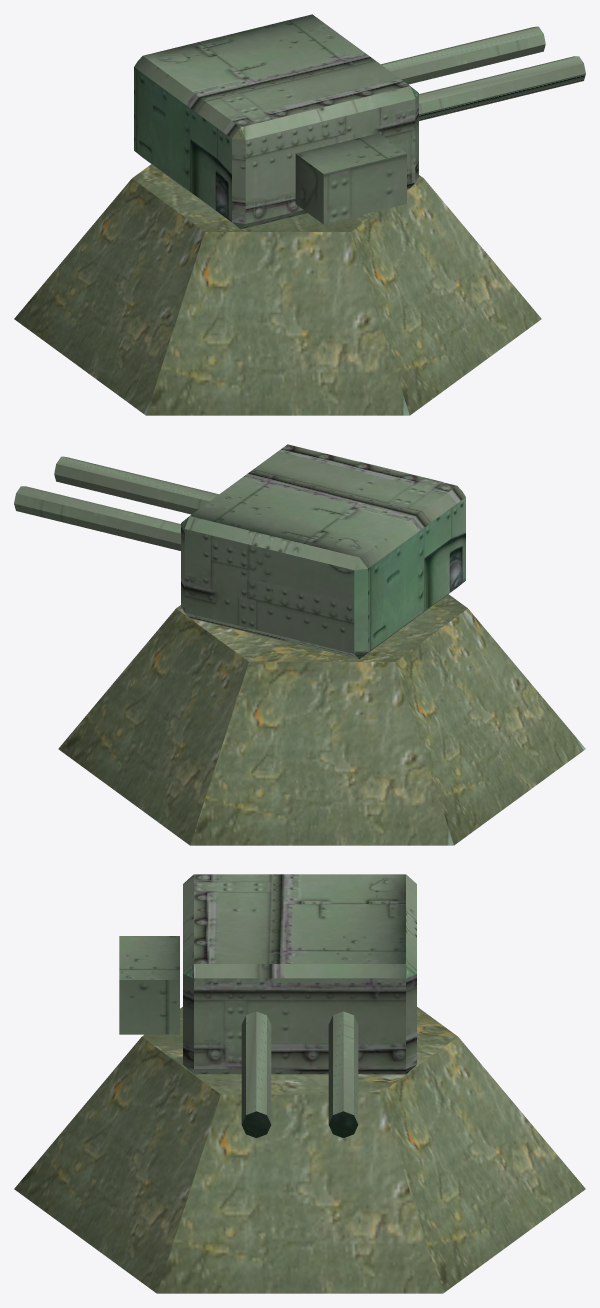
File: light_turret.glb
The picture shows the model from 3 angles, top to bottom: view 1: azimuth 30°, elevation 25°; view 2: azimuth 150°, elevation 25°; view 3: azimuth 270°, elevation 25°; orthographic projection. The views are drawn at different scales.
Parts seen in each view (by area): view 1: base, gun; view 2: base, gun; view 3: base, gun.
Boxes of the visible parts, x1,y1,x2,y2 form: base: (14, 164, 541, 415); gun: (134, 14, 585, 229); base: (58, 594, 585, 845); gun: (14, 444, 465, 659); base: (14, 1007, 585, 1293); gun: (119, 874, 416, 1137).
Bounding box in the file's own units: 2.1 × 1.04 × 2.
1 material, 1 textured.
